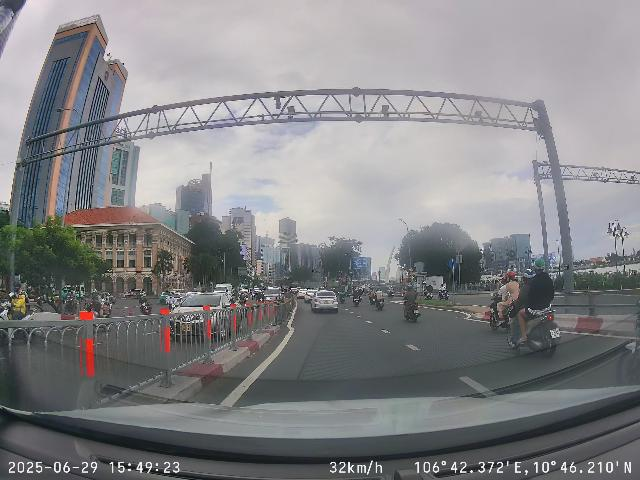301a-cac-xe-chi-duoc-di-thang: (449, 258, 457, 269)
